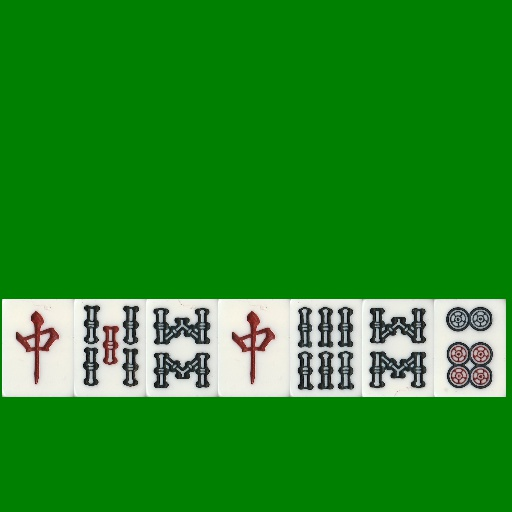5s: (74, 299, 146, 397)
6p: (434, 299, 506, 397)
6s: (290, 299, 362, 397)
8s: (146, 299, 218, 397), (362, 299, 434, 397)
tyun: (2, 299, 74, 397), (218, 299, 290, 397)
